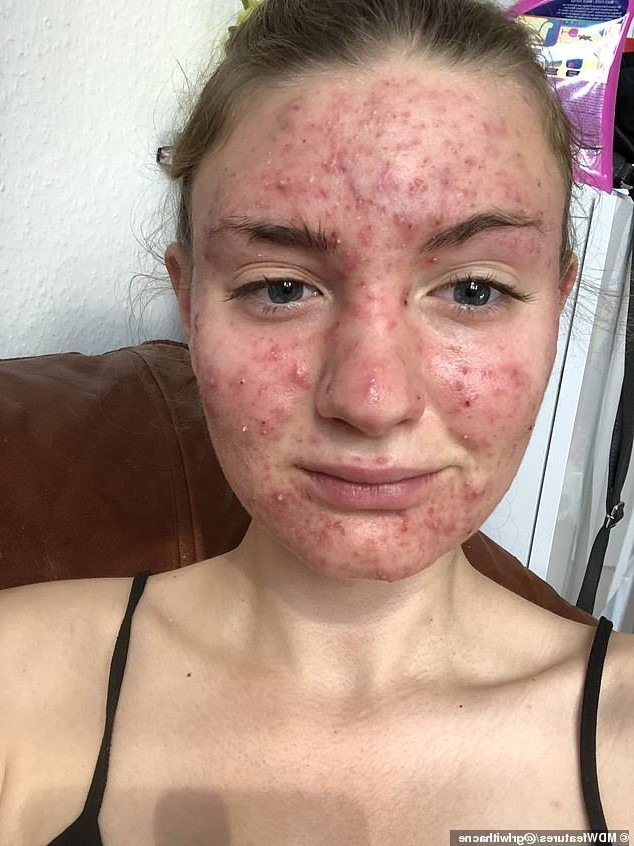Acne: (222, 77, 520, 583)
